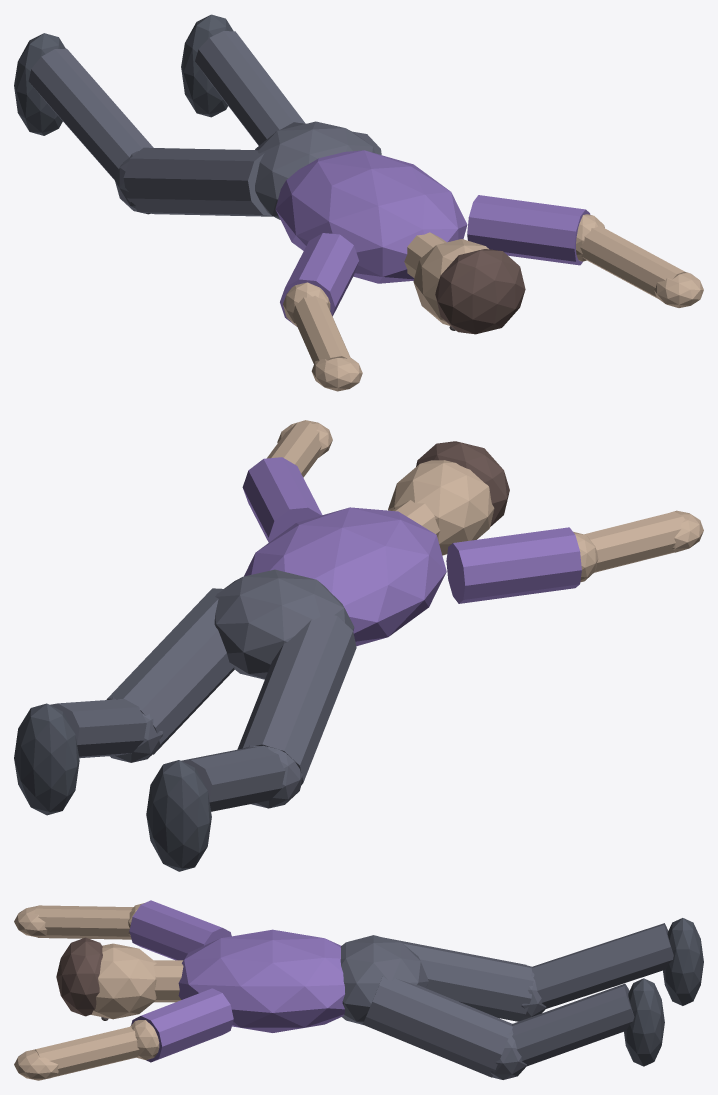
3 views of the same model, one above another, from view 1: azimuth 30°, elevation 25°; view 2: azimuth 150°, elevation 25°; view 3: azimuth 270°, elevation 25° (orthographic). The views are drawn at different scales.
Parts seen in each view (by area): view 1: world; view 2: world; view 3: world.
Part boxes in pixels (x1,y1,x2,y2): world: (14,14,703,391); world: (14,420,703,871); world: (14,900,703,1080).
Bounding box in the file's own units: 1.17 × 0.38 × 2.12.
